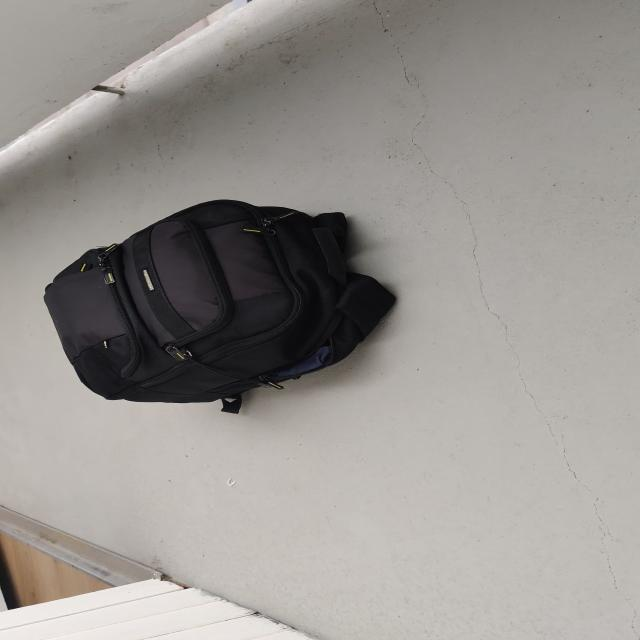backpack: (33, 193, 403, 411)
